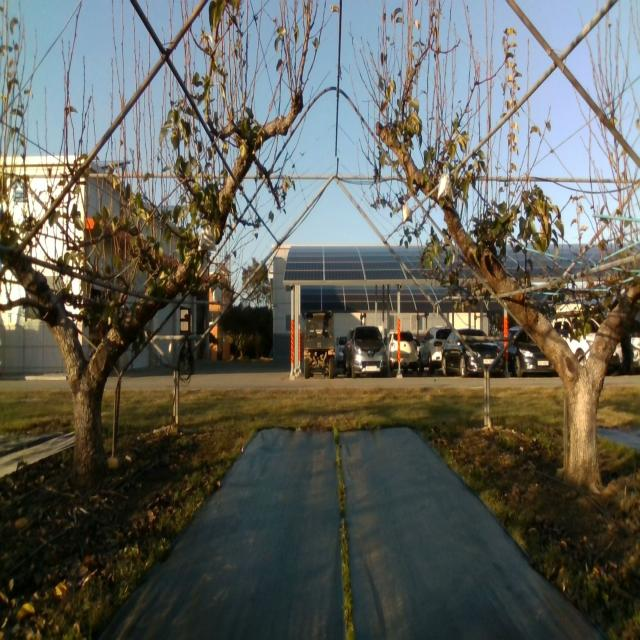pearbags: (437, 166, 454, 202), (198, 223, 216, 252)
